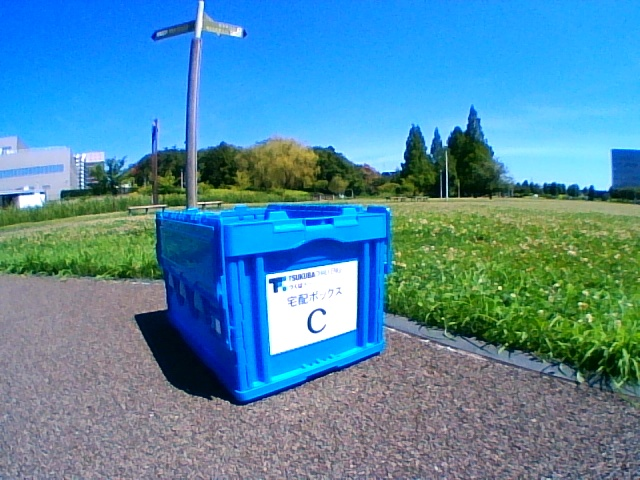blue_box: (157, 205, 384, 352)
tag_c: (275, 277, 341, 335)
